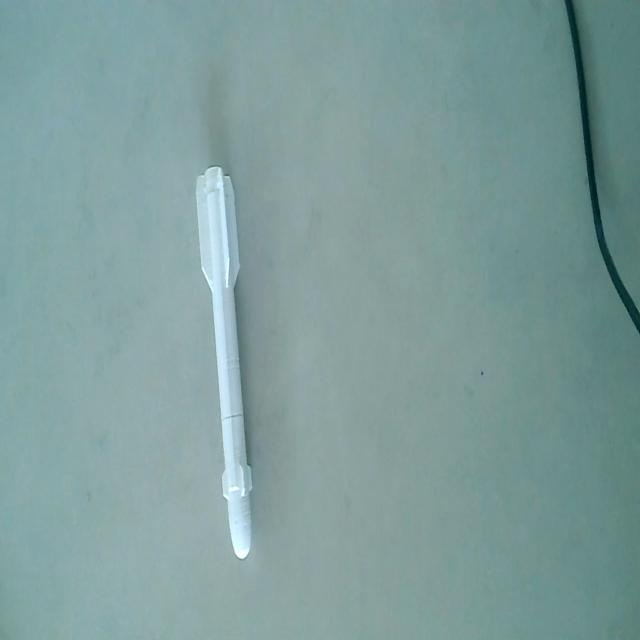Rocket: (195, 157, 256, 570)
